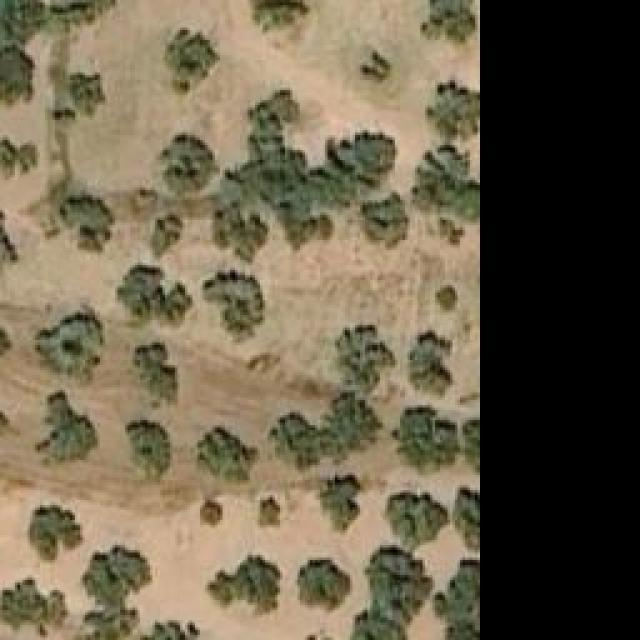Tree: (232, 97, 329, 243), (315, 133, 399, 201), (362, 542, 430, 620), (118, 265, 193, 330), (413, 145, 478, 218), (35, 390, 98, 465), (210, 553, 283, 616), (203, 267, 266, 335), (392, 405, 460, 468), (0, 575, 68, 638), (165, 27, 223, 95), (425, 78, 478, 148), (328, 390, 381, 460), (403, 328, 453, 401), (87, 547, 145, 605), (385, 493, 448, 546), (267, 415, 325, 470), (198, 427, 253, 485), (45, 315, 98, 375), (208, 205, 271, 255), (30, 502, 83, 560), (338, 330, 391, 388), (133, 340, 178, 408), (298, 558, 353, 611), (360, 198, 410, 248), (420, 0, 477, 42), (128, 420, 171, 473), (165, 135, 205, 188), (148, 212, 191, 260), (83, 602, 136, 640), (320, 475, 360, 525), (0, 0, 40, 48), (68, 72, 108, 120), (252, 0, 310, 30), (0, 138, 38, 183), (60, 200, 108, 235), (455, 485, 478, 555), (450, 135, 478, 183), (147, 617, 202, 640), (0, 53, 28, 98), (360, 53, 393, 83), (463, 420, 478, 473), (258, 498, 281, 528), (435, 288, 458, 313), (198, 500, 221, 523)
